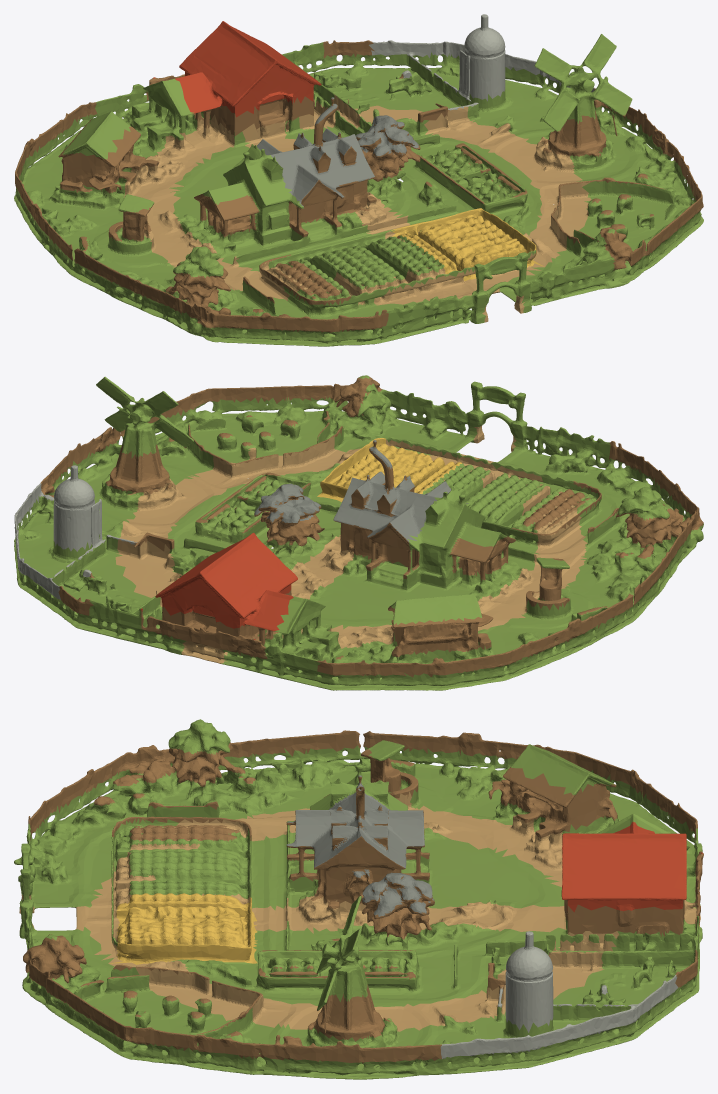
File: farm_colored.glb
3 views of the same model, one above another, from view 1: azimuth 30°, elevation 25°; view 2: azimuth 150°, elevation 25°; view 3: azimuth 270°, elevation 25° (orthographic). The views are drawn at different scales.
Visible parts, largest first — view 1: mesh_node; view 2: mesh_node; view 3: mesh_node.
Boxes of the visible parts, x1,y1,x2,y2 form: mesh_node: [14, 14, 703, 346]; mesh_node: [14, 375, 703, 690]; mesh_node: [14, 719, 703, 1079].
Bounding box in the file's own units: 1.89 × 0.3741 × 1.73.
